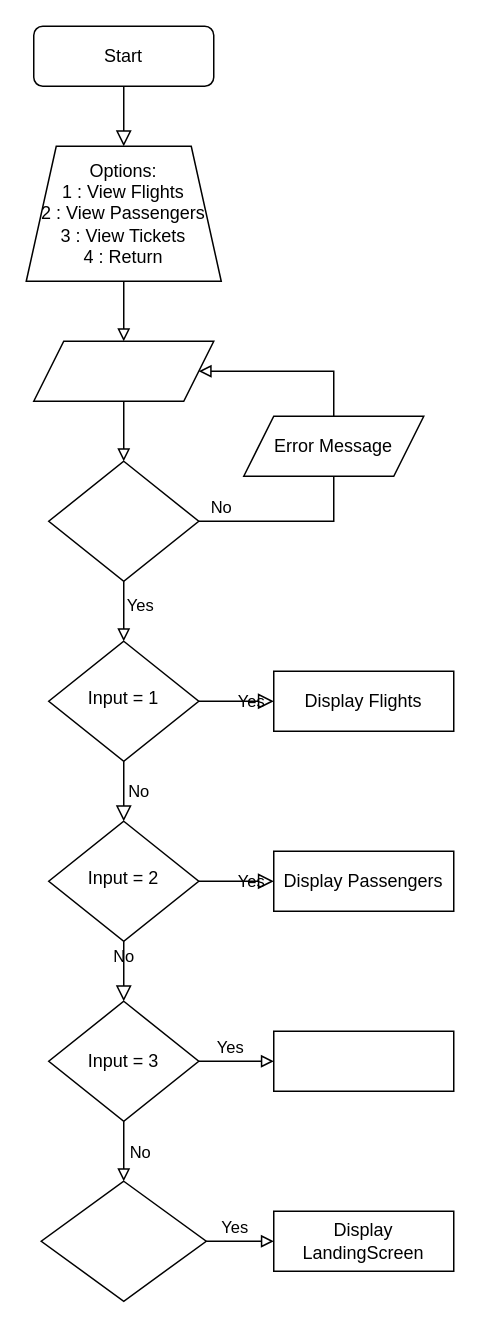
Some shapes in this 480 by 1328 pixel diagram are drawn without their labels. Each missing label, with the centre of its shape:
Display Tickets: pixel 363 1060
Input: pixel 123 370
Input = 4: pixel 123 1240
Input = Valid: pixel 123 520
